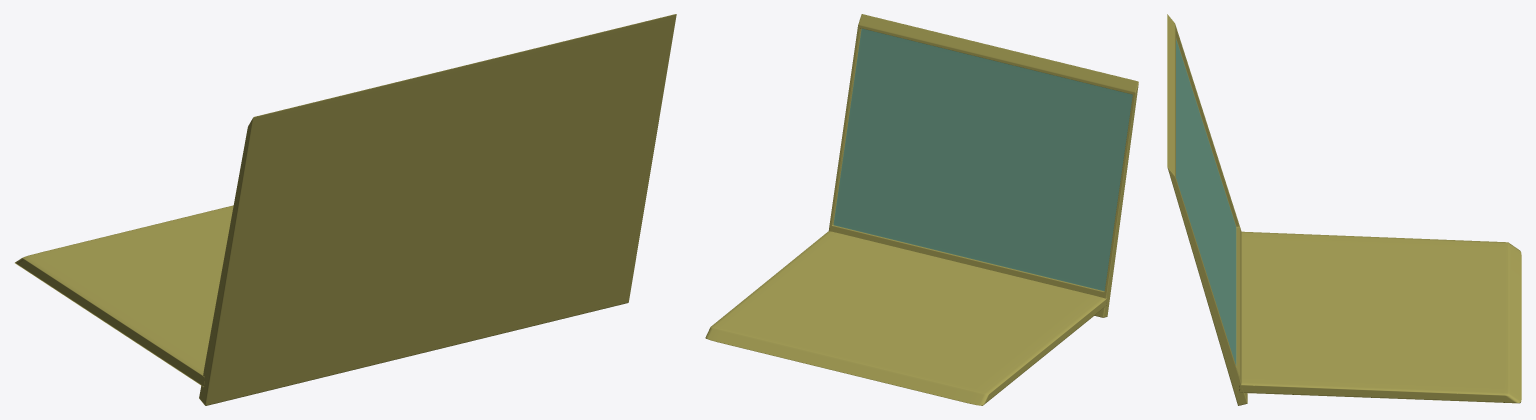
The model's file is Laptop.fbx.
The picture shows the model from 3 angles, left to right: view 1: azimuth 30°, elevation 25°; view 2: azimuth 150°, elevation 25°; view 3: azimuth 270°, elevation 25°; orthographic projection. The views are drawn at different scales.
Parts seen in each view (by area): view 1: Laptop; view 2: Laptop; view 3: Laptop.
Boxes of the visible parts, x1,y1,x2,y2 form: Laptop: (15, 14, 676, 405); Laptop: (705, 14, 1138, 405); Laptop: (1167, 14, 1521, 405).
Bounding box in the file's own units: 1.61 × 1.18 × 1.58.
